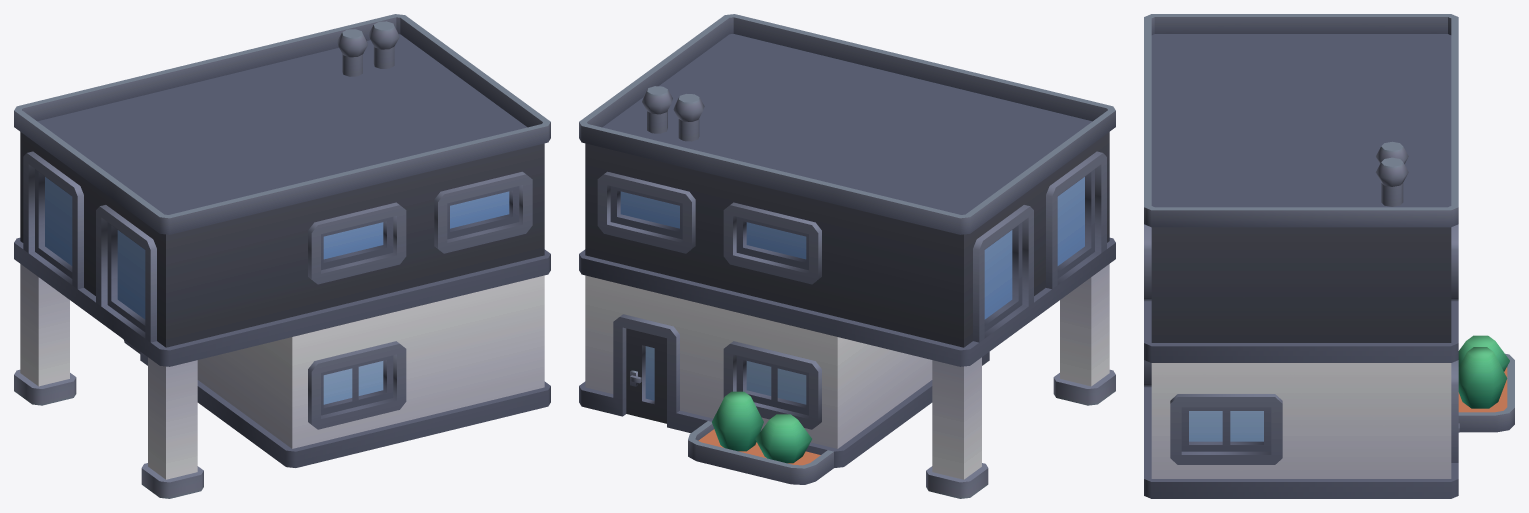
File: k-city-kit-suburban-building-type-p.glb
The picture shows the model from 3 angles, left to right: view 1: azimuth 30°, elevation 25°; view 2: azimuth 150°, elevation 25°; view 3: azimuth 270°, elevation 25°; orthographic projection. The views are drawn at different scales.
Visible parts, largest first — view 1: building-type-p; view 2: building-type-p; view 3: building-type-p.
Boxes of the visible parts, x1,y1,x2,y2 form: building-type-p: [14, 14, 550, 498]; building-type-p: [579, 14, 1115, 498]; building-type-p: [1144, 14, 1514, 498].
Size of the model in its own units: 1.24 by 0.918 by 0.9901.
1 material, 1 textured.
